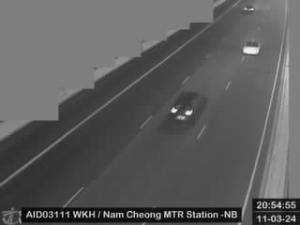vehicle: (170, 91, 206, 123), (243, 39, 261, 54), (243, 6, 255, 14)
